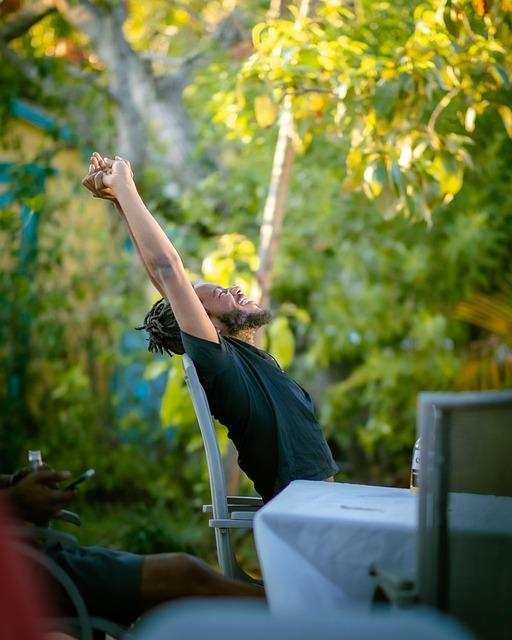Non_Gorille: (77, 114, 400, 598)
